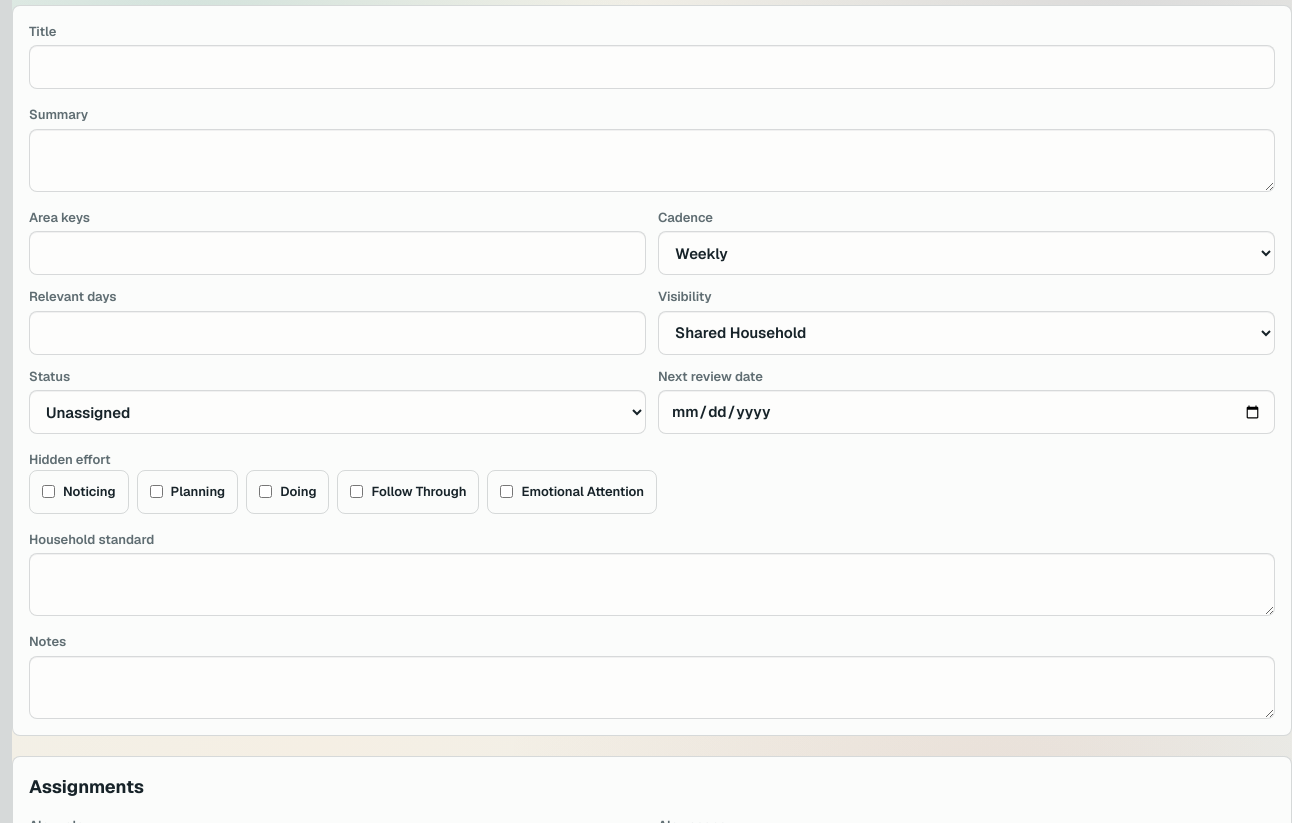
Scenario: ResponsibilityEditor › includes relevant days and non-private visibility when creating
Type "Morning launch" into the field labelled "Title".
click(652, 67); type("Morning launch")  # box [29,45,1275,89]
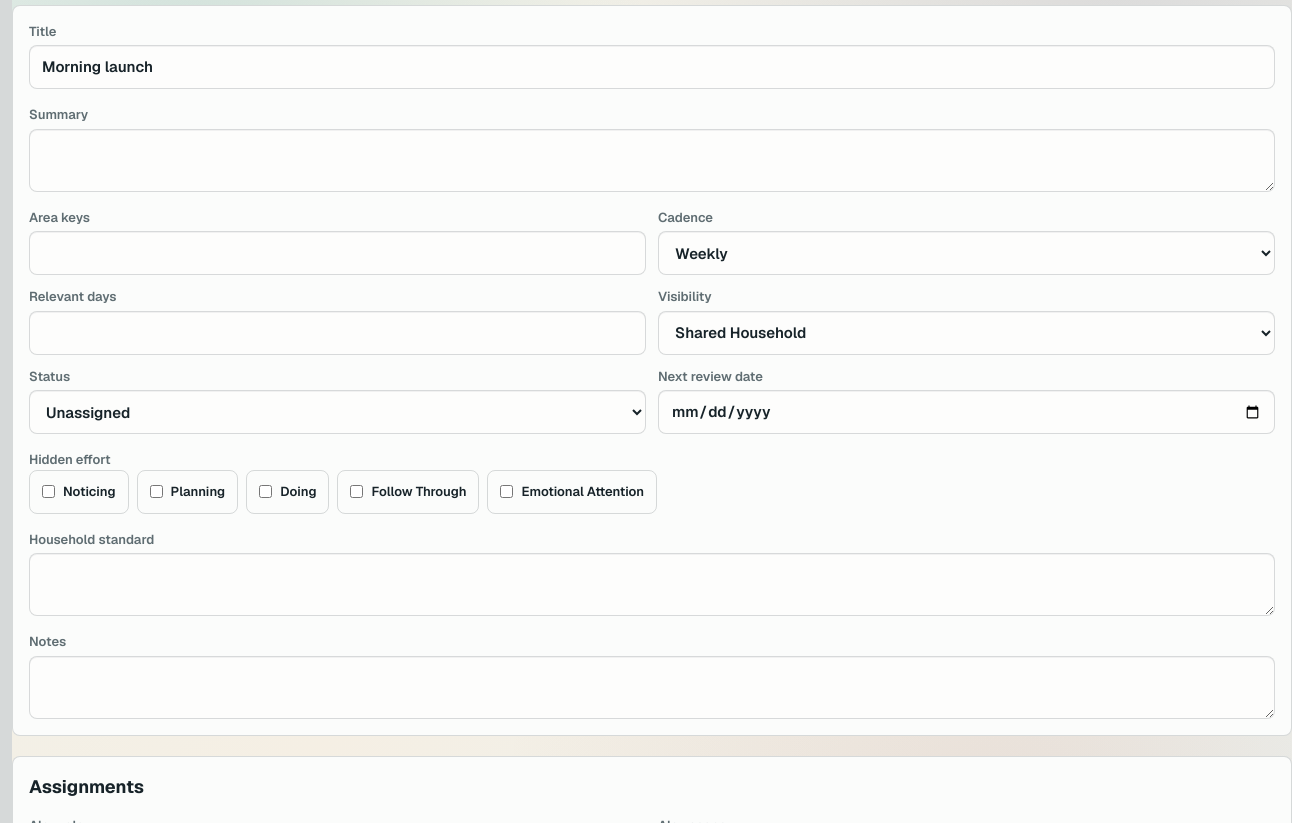
Type "school_flow" into the field labelled "Area keys".
click(338, 253); type("school_flow")  # box [29,231,646,275]
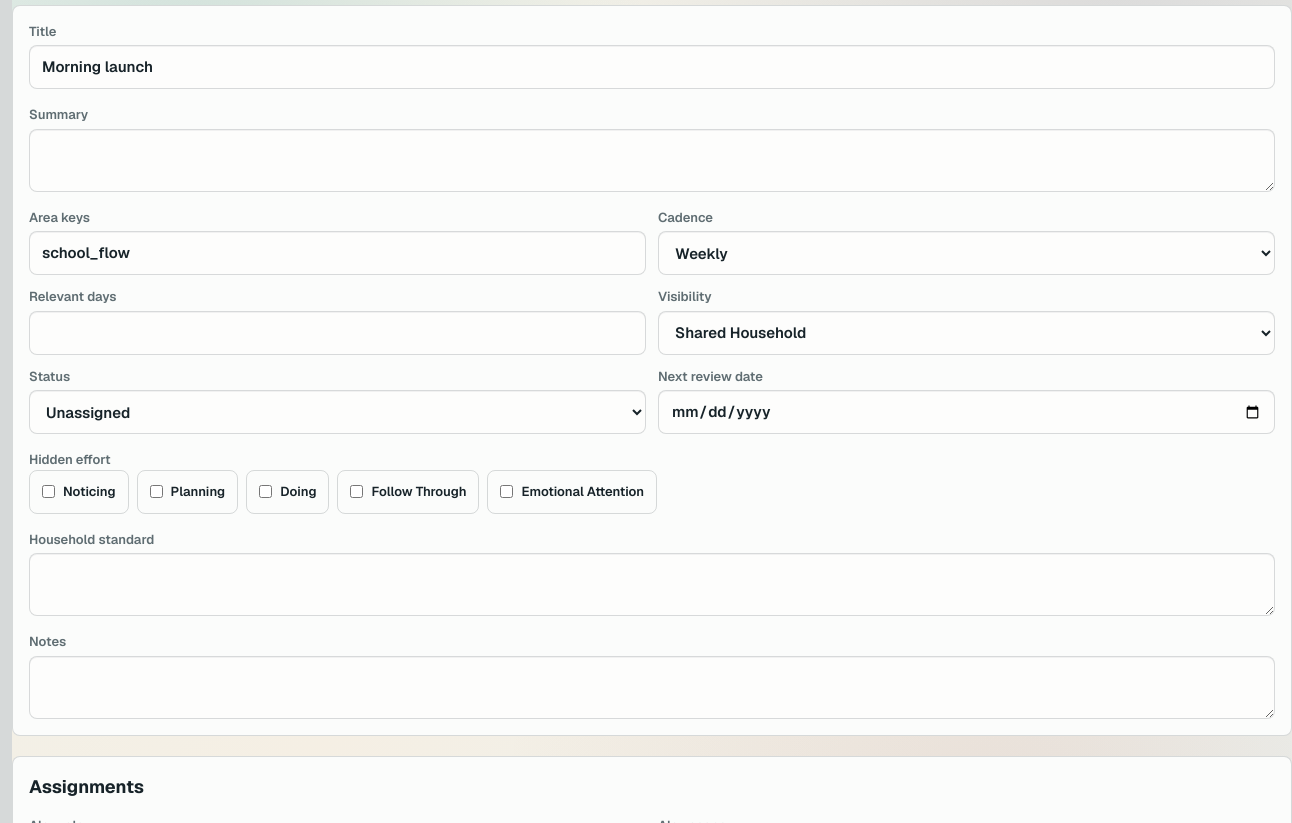
Type "weekday" into the field labelled "Relevant days".
click(338, 332); type("weekday")  # box [29,310,646,354]
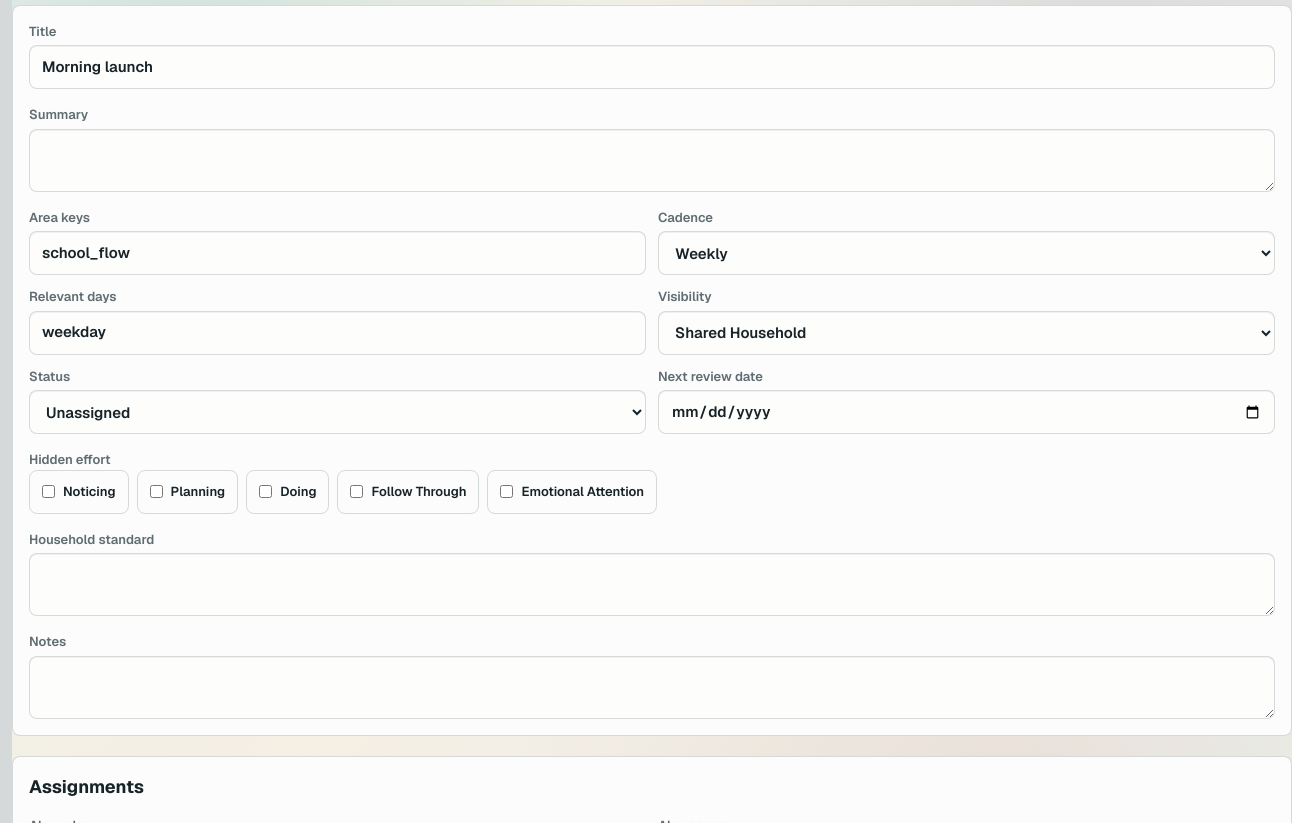
Select "Check In Only" in the dropdown labelled "Visibility" at [966, 332], box [658,310,1275,354]
(page scrolled)
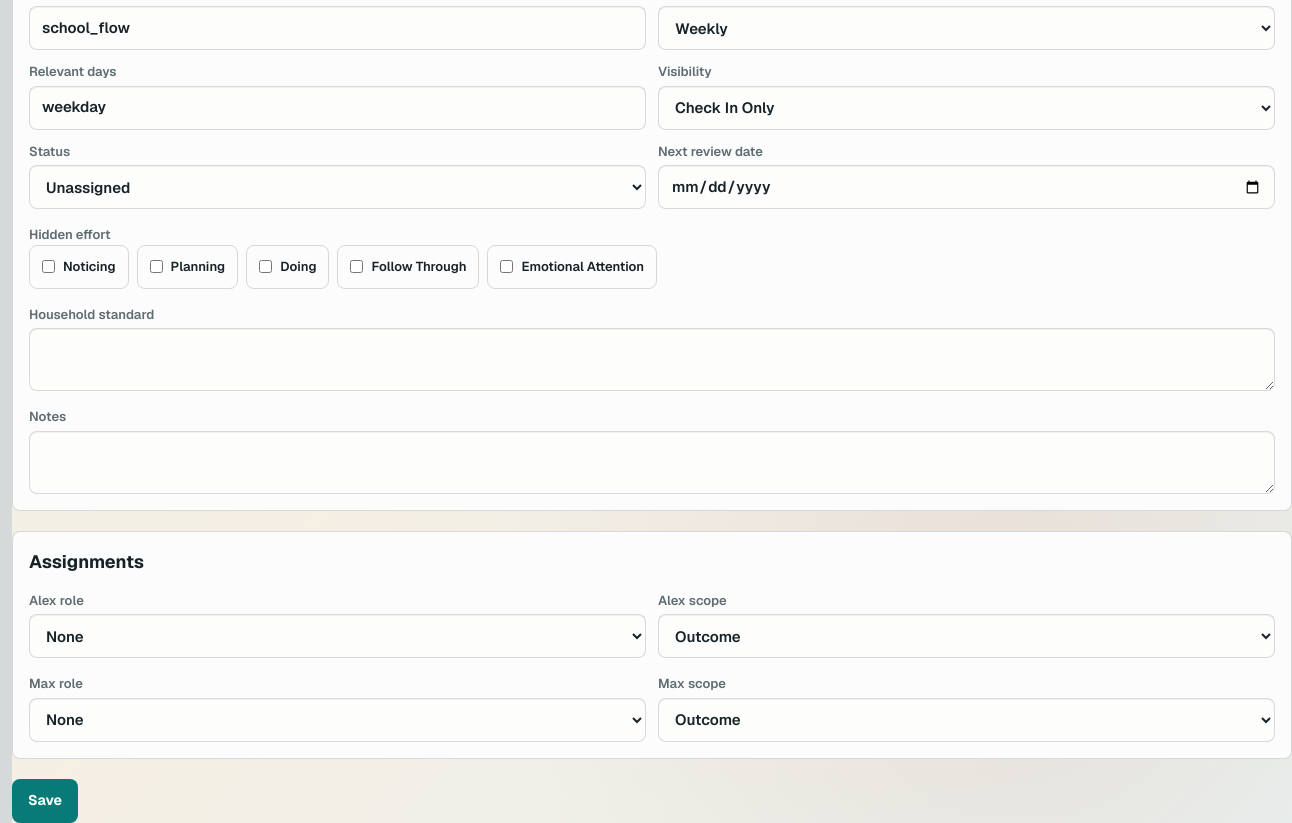
Click the button "Save".
click(45, 800)  # box [12,778,78,822]
(page scrolled)
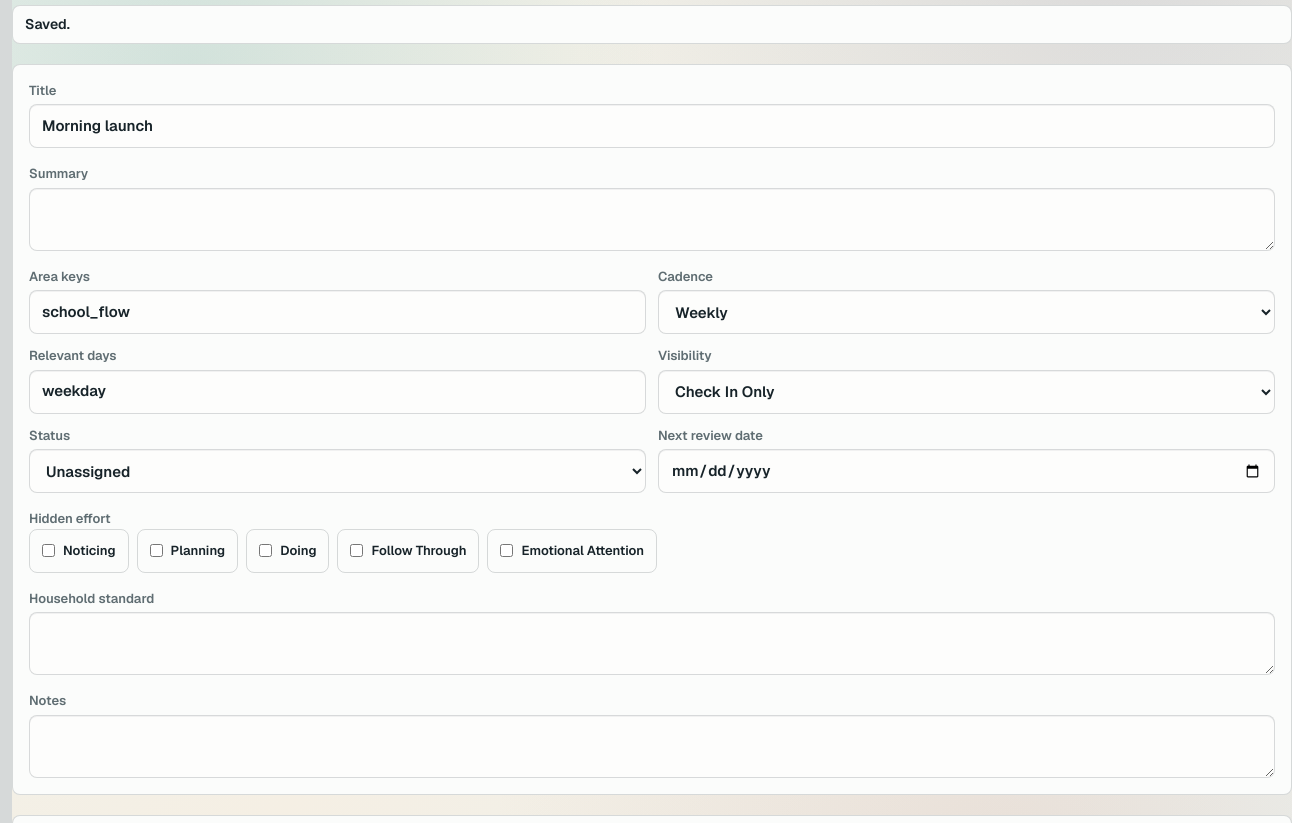
Now the message reads "Saved.", box [25,14,70,32]
